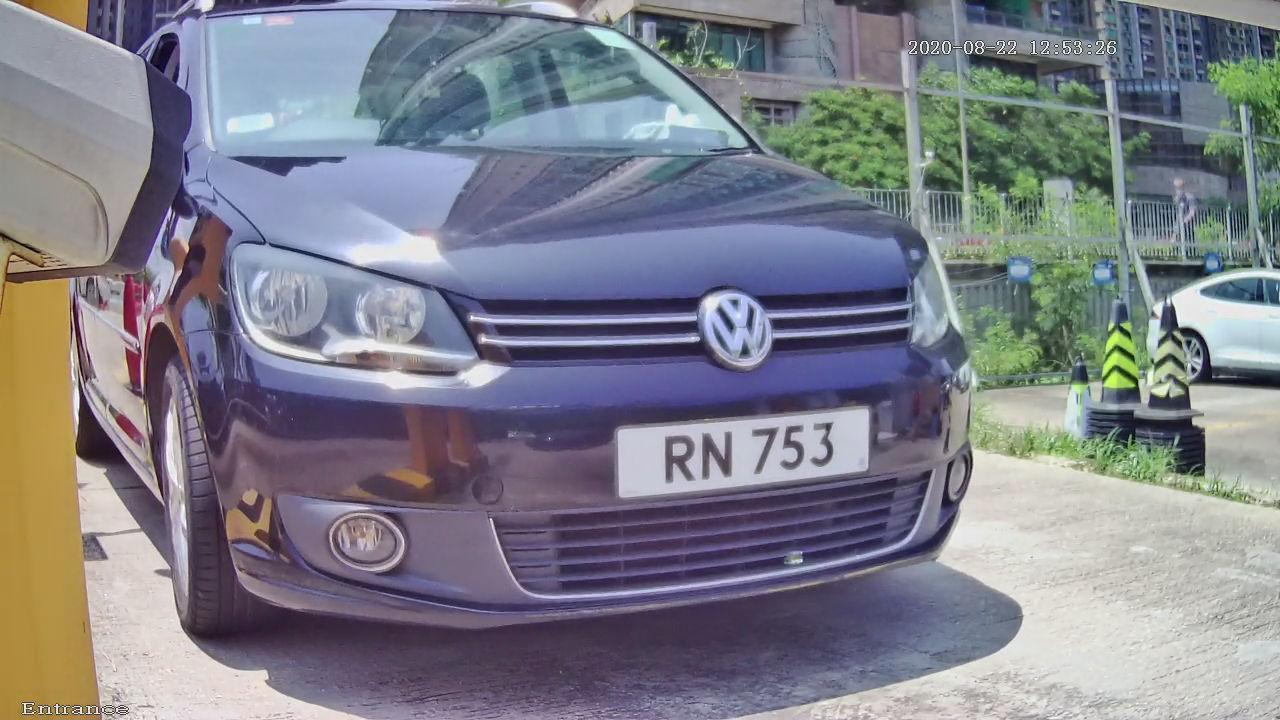Car: (46, 20, 1075, 669)
License Plate: (601, 396, 881, 505)
